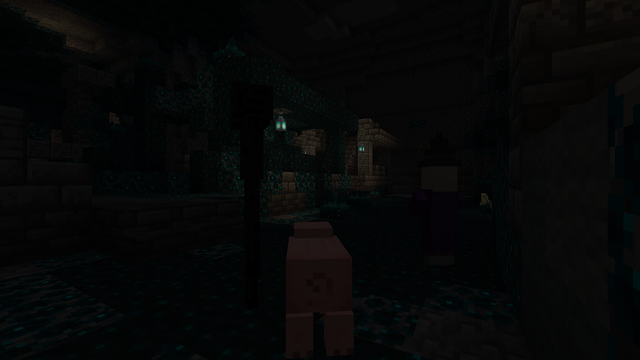cochons: (257, 232, 366, 352)
endermens: (216, 70, 282, 318)
sorcieres: (419, 161, 455, 269)
